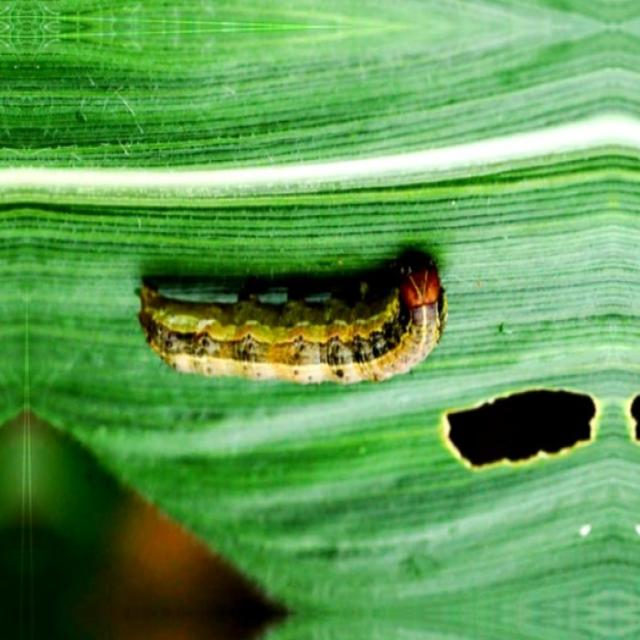Armyworm: (126, 197, 453, 405)
Armyworm_damage: (432, 384, 602, 514)
